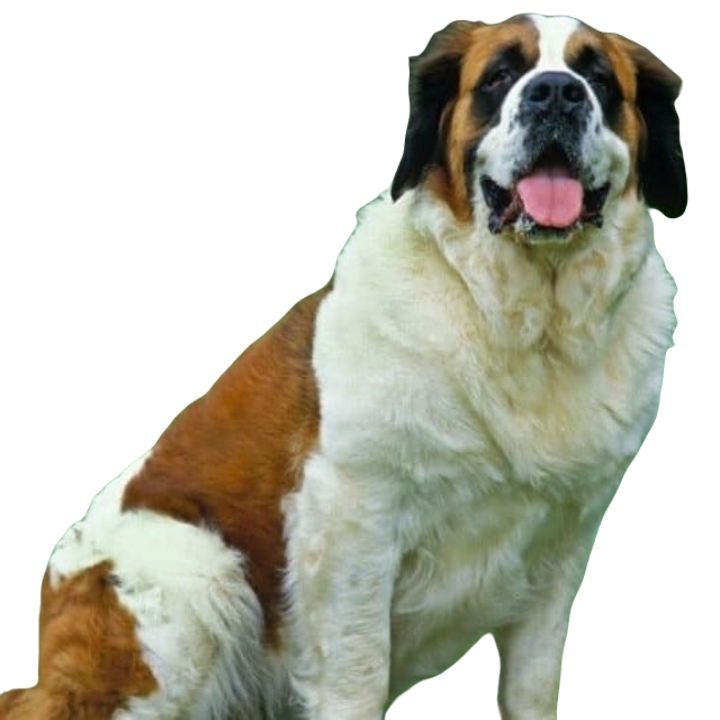Dog: (2, 9, 686, 718)
